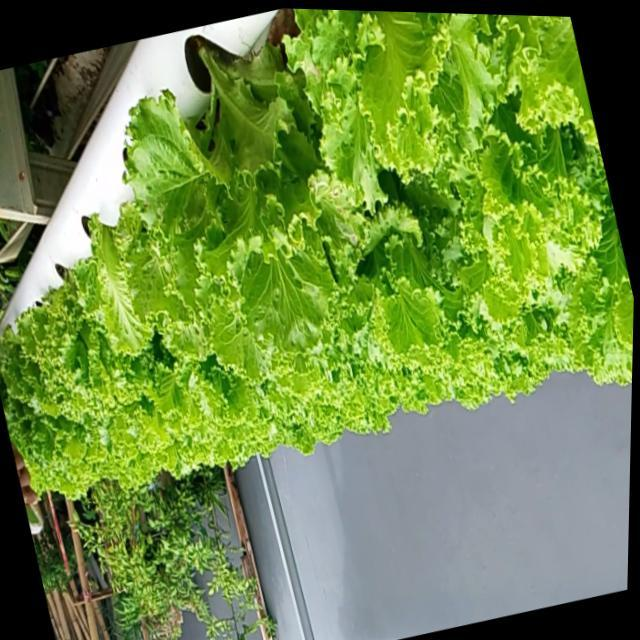Mature: (129, 27, 353, 365), (21, 246, 142, 415)
